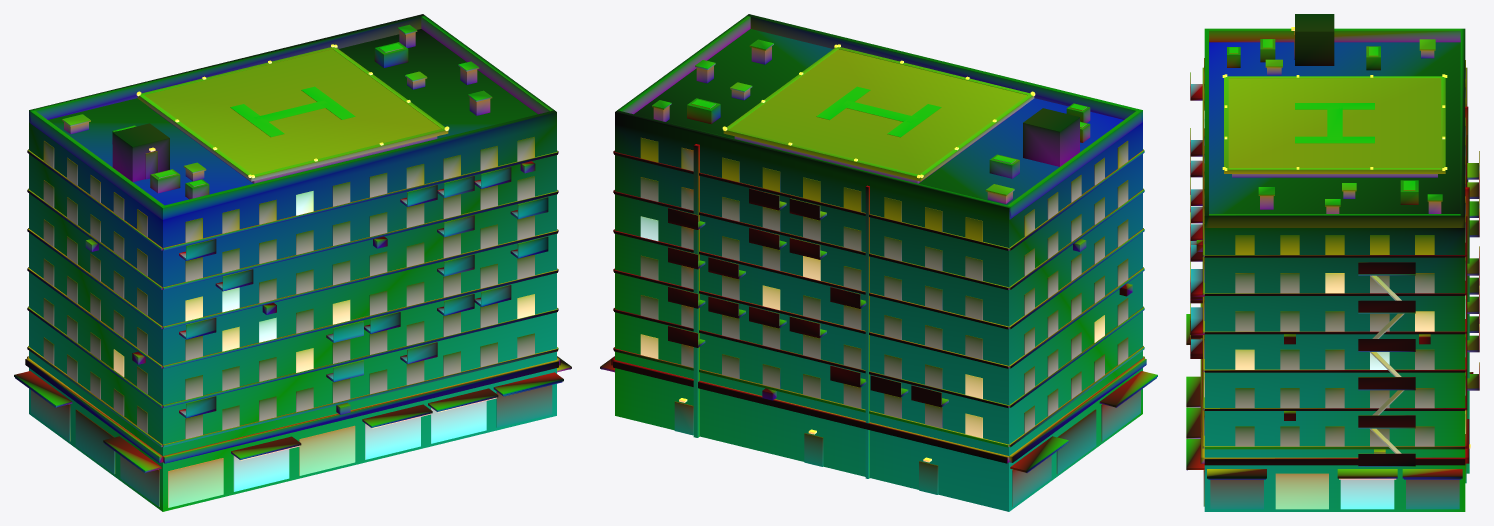
Rendered from Block_Housing_V1.fbx.
3 renders of one model, left to right at view 1: azimuth 30°, elevation 25°; view 2: azimuth 150°, elevation 25°; view 3: azimuth 270°, elevation 25°, orthographic. The views are drawn at different scales.
Visible parts, largest first — view 1: Block_Housing_V1_LOD0; view 2: Block_Housing_V1_LOD0; view 3: Block_Housing_V1_LOD0.
Part boxes in pixels (x1,y1,x2,y2): Block_Housing_V1_LOD0: (14,14,571,511); Block_Housing_V1_LOD0: (600,14,1157,511); Block_Housing_V1_LOD0: (1186,14,1479,511).
Size of what is drawn, in the model's own units: 37.1 by 26.94 by 22.5.
